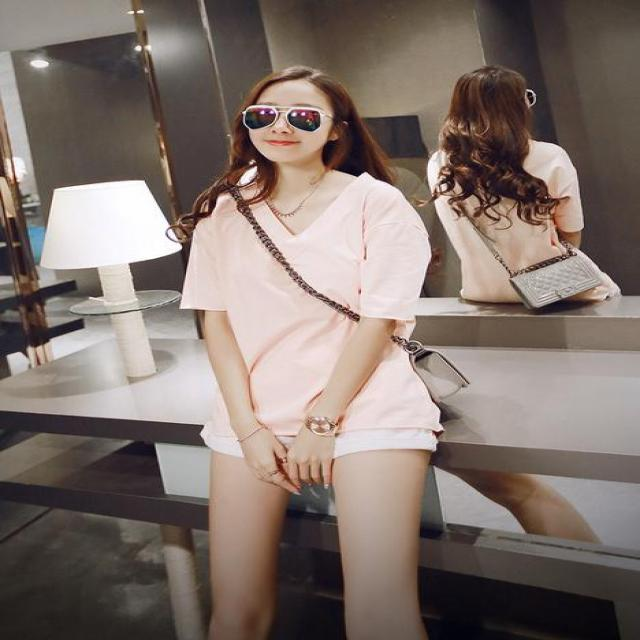short sleeve top: (183, 172, 444, 435), (432, 136, 610, 306)
shorts: (205, 382, 436, 462)
